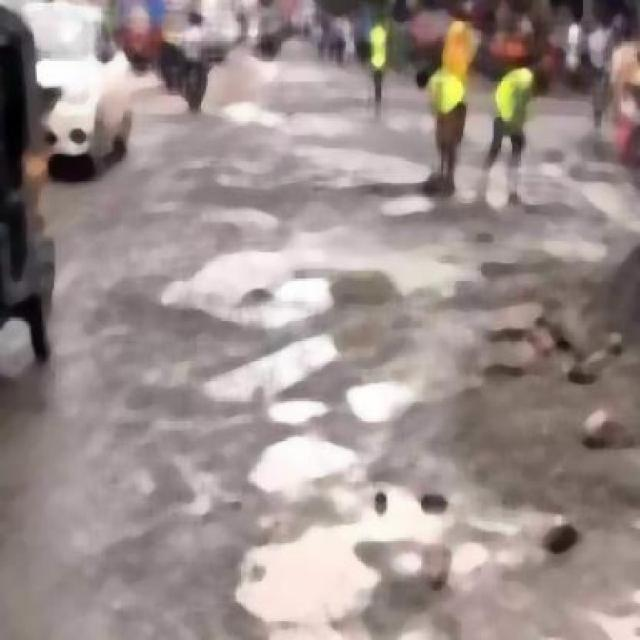pothole: (356, 432, 549, 578), (244, 519, 383, 639)
